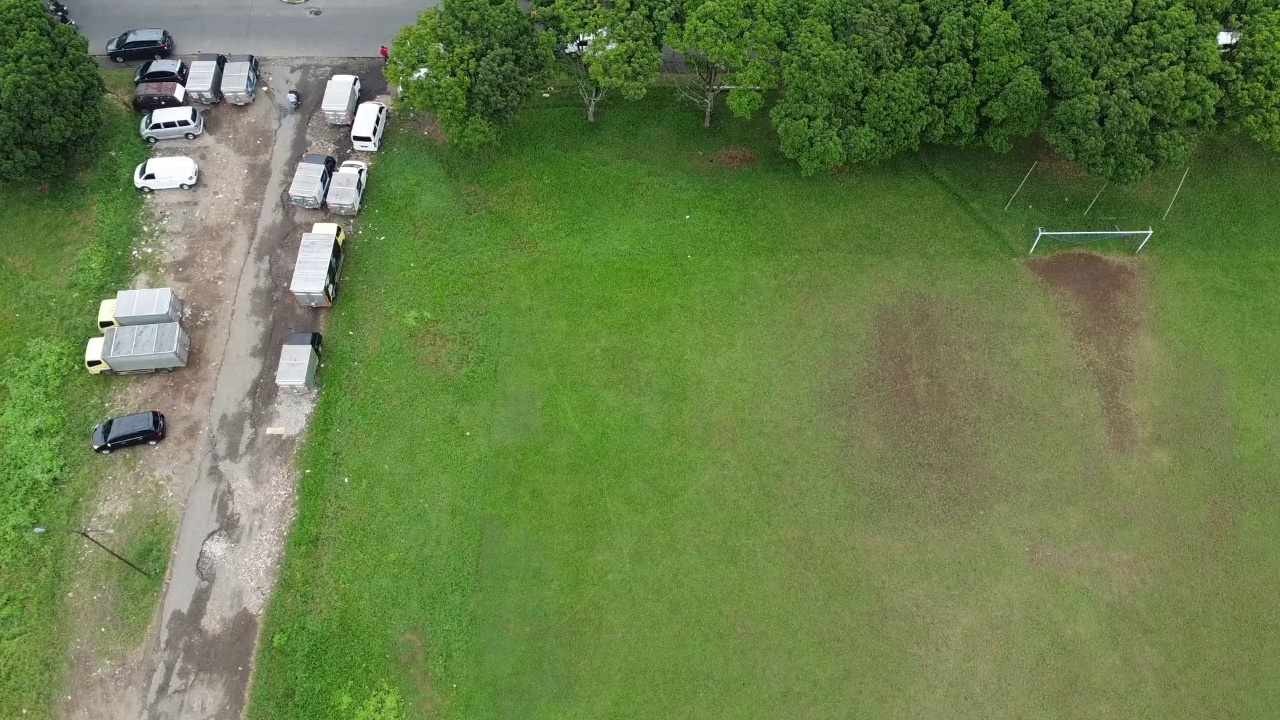mobil: (90, 413, 170, 453), (133, 153, 204, 198), (135, 101, 206, 143), (104, 28, 176, 65), (344, 99, 393, 152), (130, 81, 187, 113), (132, 58, 189, 90)
